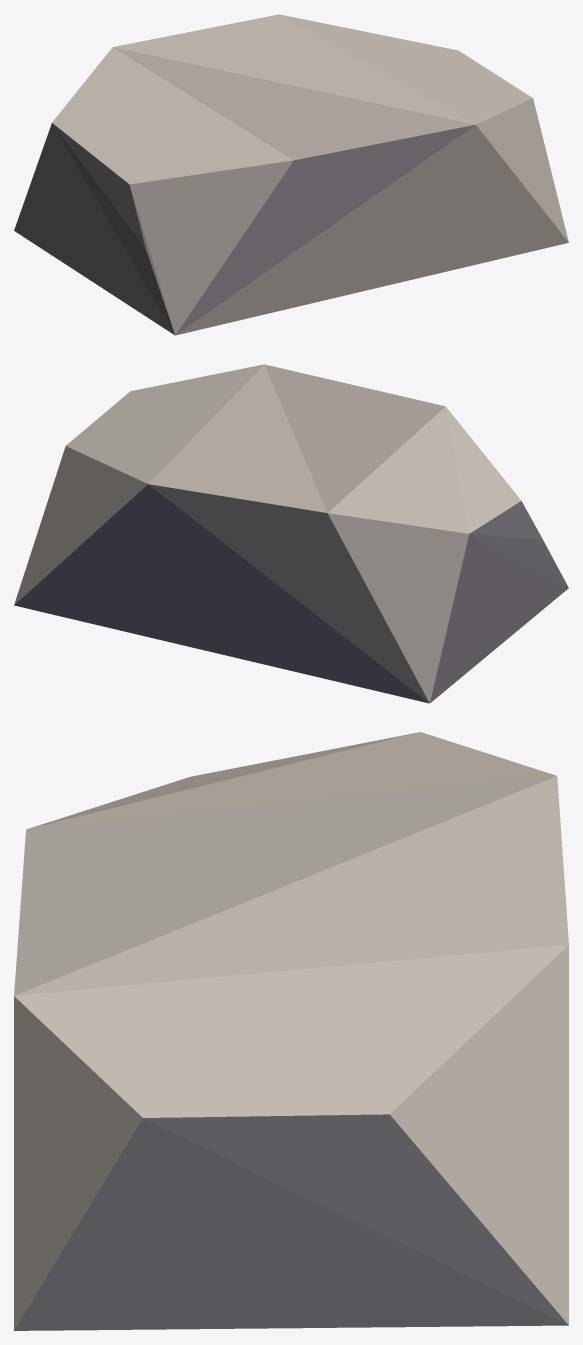
Rendered from mtn_boulder_flat.glb.
3 renders of one model, top to bottom at view 1: azimuth 30°, elevation 25°; view 2: azimuth 150°, elevation 25°; view 3: azimuth 270°, elevation 25°, orthographic. The views are drawn at different scales.
Parts seen in each view (by area): view 1: mtn_boulder_flat; view 2: mtn_boulder_flat; view 3: mtn_boulder_flat.
Part boxes in pixels (left/top/right/bottom): mtn_boulder_flat: left=14, top=14, right=568, bottom=335; mtn_boulder_flat: left=14, top=364, right=568, bottom=703; mtn_boulder_flat: left=14, top=732, right=568, bottom=1330.
Size of the model in its own units: 2.99 by 1.13 by 1.98.
